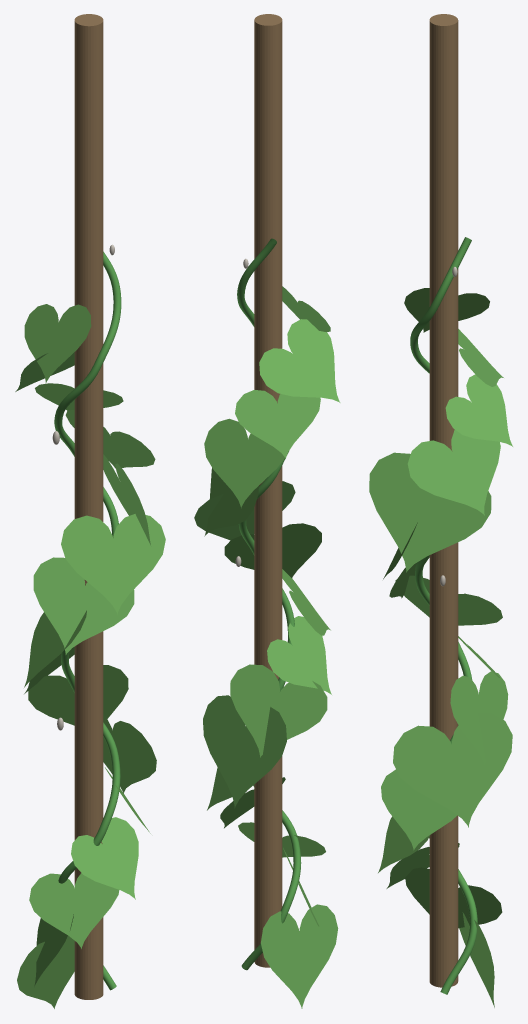
Rendered from yam_3.glb.
3 views of the same model, side by side, from view 1: azimuth 30°, elevation 25°; view 2: azimuth 210°, elevation 25°; view 3: azimuth 270°, elevation 25° (orthographic). The views are drawn at different scales.
Visible parts, largest first — view 1: TrellisStake.001, UbeLeaf_10, UbeLeaf_09, UbeLeaf_02.001, Vine.001, UbeLeaf_03.001, UbeLeaf_15, UbeLeaf_06.001, UbeLeaf_00.001, UbeLeaf_05.001, UbeLeaf_12, UbeLeaf_08.001 (+5 smaller); view 2: TrellisStake.001, UbeLeaf_05.001, UbeLeaf_00.001, UbeLeaf_06.001, UbeLeaf_14, UbeLeaf_12, UbeLeaf_13, UbeLeaf_07.001, Vine.001, UbeLeaf_09, UbeLeaf_11, UbeLeaf_10 (+5 smaller); view 3: TrellisStake.001, UbeLeaf_05.001, UbeLeaf_11, UbeLeaf_12, UbeLeaf_13, Vine.001, UbeLeaf_04.001, UbeLeaf_06.001, UbeLeaf_01.001, UbeLeaf_08.001, UbeLeaf_15, UbeLeaf_00.001 (+4 smaller).
Boxes of the visible parts, x1,y1,x2,y2 form: TrellisStake.001: (74, 14, 103, 999); UbeLeaf_10: (61, 514, 165, 614); UbeLeaf_09: (33, 557, 134, 654); UbeLeaf_02.001: (29, 873, 119, 948); Vine.001: (54, 251, 121, 990); UbeLeaf_03.001: (71, 817, 138, 899); UbeLeaf_15: (24, 304, 91, 383); UbeLeaf_06.001: (28, 665, 128, 725); UbeLeaf_00.001: (17, 935, 74, 1008); UbeLeaf_05.001: (103, 714, 156, 793); UbeLeaf_12: (65, 410, 155, 468); UbeLeaf_08.001: (24, 610, 86, 687); TrellisStake.001: (254, 14, 282, 967); UbeLeaf_05.001: (203, 695, 286, 808); UbeLeaf_00.001: (261, 904, 338, 1008); UbeLeaf_06.001: (230, 664, 327, 757); UbeLeaf_14: (259, 319, 340, 402); UbeLeaf_12: (204, 418, 284, 508); UbeLeaf_13: (235, 390, 320, 458); UbeLeaf_07.001: (267, 616, 331, 694); Vine.001: (237, 238, 301, 970); UbeLeaf_09: (224, 523, 321, 577); UbeLeaf_11: (204, 468, 258, 536); UbeLeaf_10: (194, 481, 295, 540); TrellisStake.001: (429, 14, 458, 987); UbeLeaf_05.001: (393, 712, 512, 827); UbeLeaf_11: (369, 452, 491, 572); UbeLeaf_12: (407, 429, 500, 515); UbeLeaf_13: (445, 374, 512, 446); Vine.001: (410, 237, 477, 994); UbeLeaf_04.001: (381, 769, 456, 850); UbeLeaf_06.001: (450, 671, 508, 764); UbeLeaf_01.001: (405, 867, 502, 928); UbeLeaf_08.001: (395, 575, 502, 625); UbeLeaf_15: (404, 288, 489, 332); UbeLeaf_00.001: (459, 912, 494, 1007).
Bounding box in the file's own units: 0.3446 × 2.69 × 0.3542.
